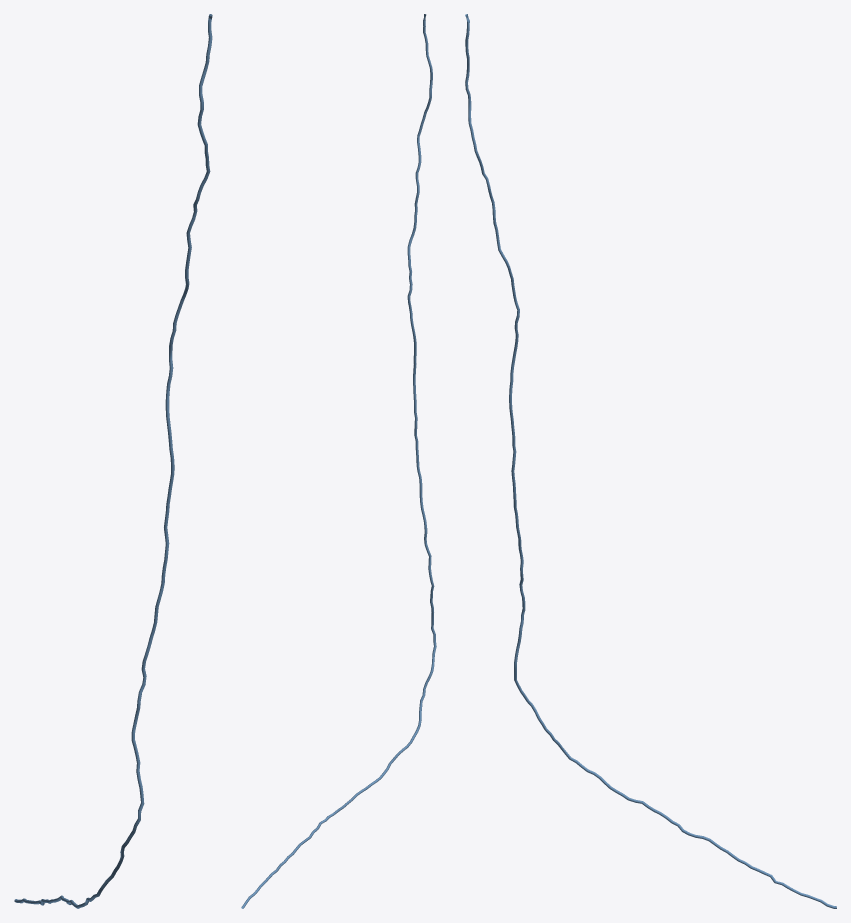
The model's file is sweep4.fbx.
3 views of the same model, side by side, from view 1: azimuth 30°, elevation 25°; view 2: azimuth 150°, elevation 25°; view 3: azimuth 270°, elevation 25° (orthographic). The views are drawn at different scales.
Parts seen in each view (by area): view 1: sweep4; view 2: sweep4; view 3: sweep4.
Boxes of the visible parts, <box> form: sweep4: <box>14,14,212,908</box>; sweep4: <box>241,14,436,908</box>; sweep4: <box>465,14,836,908</box>.
Bounding box in the file's own units: 0.5154 × 6.41 × 2.44.
